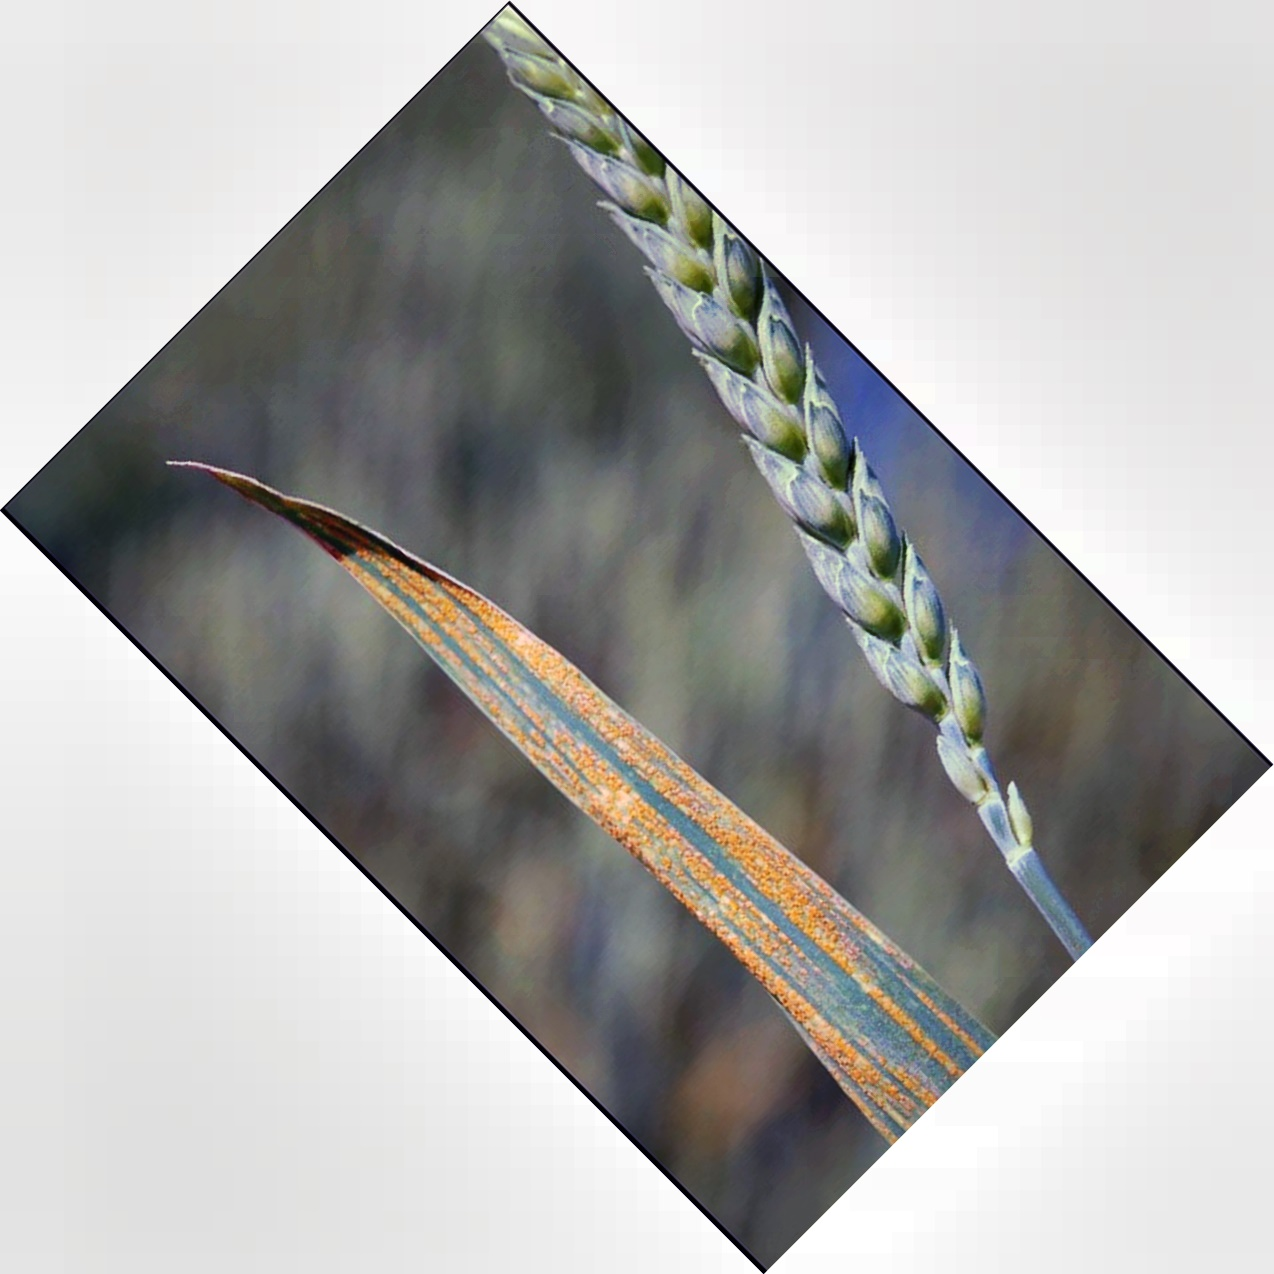Leaf Rust: (335, 535, 907, 1053)
